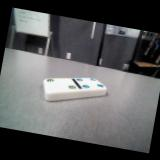domino: (43, 77, 106, 100)
